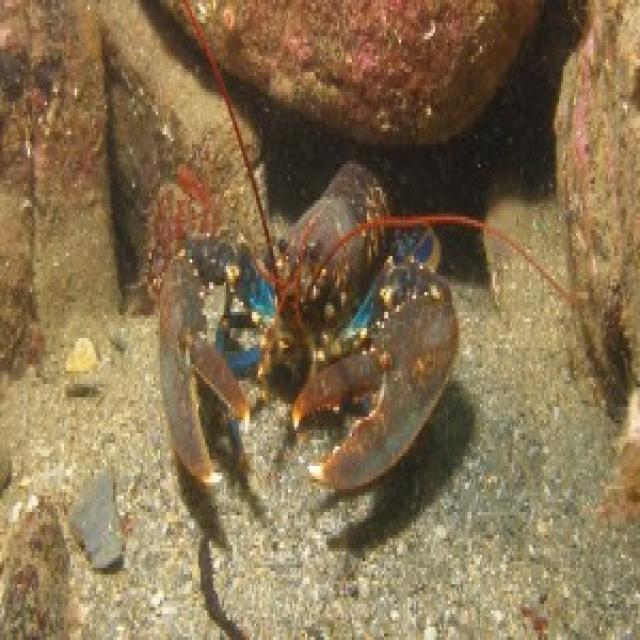lobsters: (110, 82, 535, 574), (442, 5, 586, 256)
